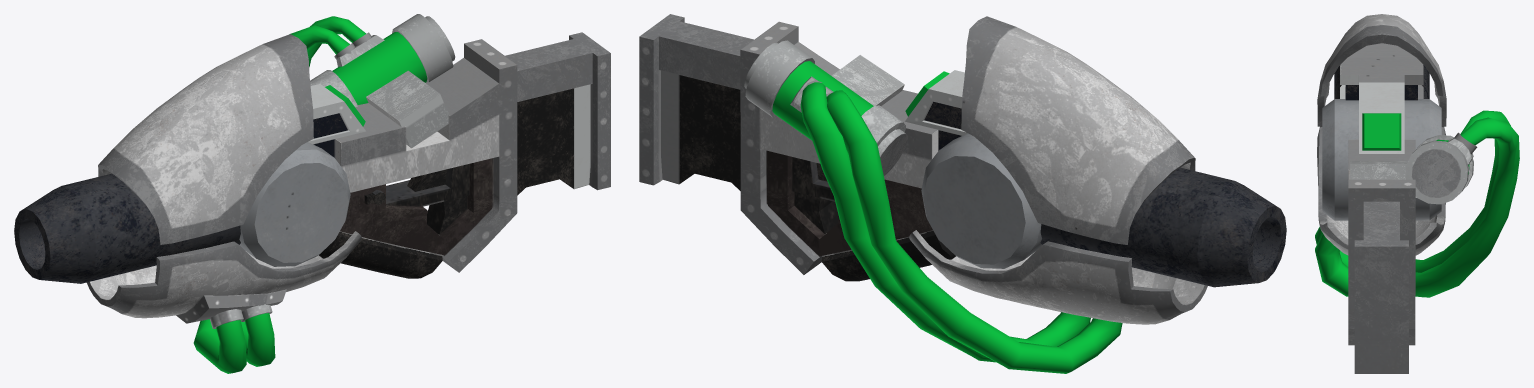
The model's file is ColorGun.fbx.
3 views of the same model, side by side, from view 1: azimuth 30°, elevation 25°; view 2: azimuth 150°, elevation 25°; view 3: azimuth 270°, elevation 25° (orthographic). The views are drawn at different scales.
Visible parts, largest first — view 1: ColorGun; view 2: ColorGun; view 3: ColorGun.
Boxes of the visible parts, left/top/right/bottom form: ColorGun: left=14, top=14, right=610, bottom=373; ColorGun: left=639, top=14, right=1286, bottom=373; ColorGun: left=1315, top=14, right=1519, bottom=373.
Size of the model in its own units: 89.57 by 45.76 by 29.59.
